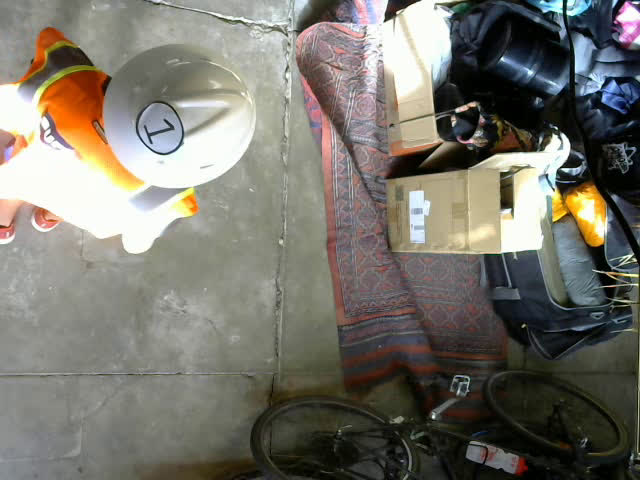one: (135, 102, 183, 157)
